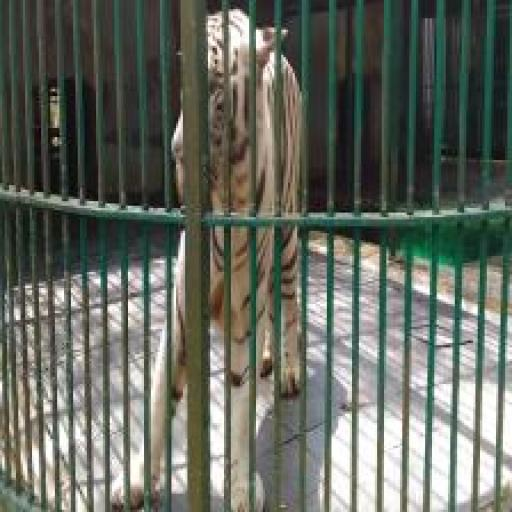Tiger: (102, 4, 315, 512)
